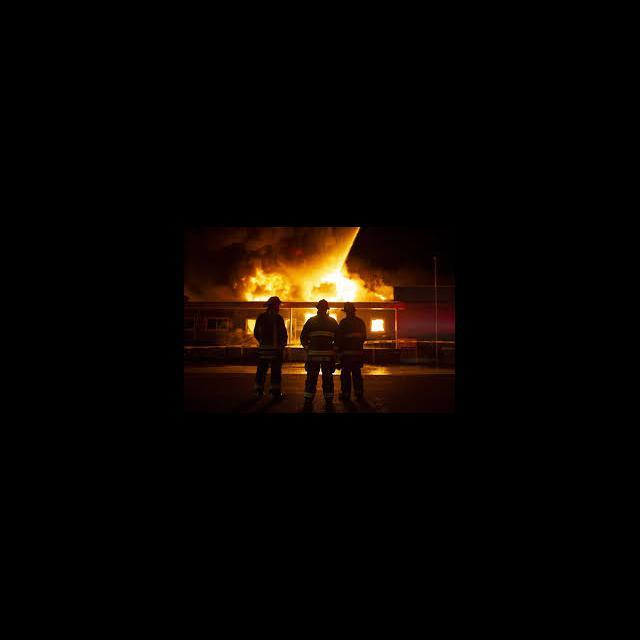Fire: (304, 258, 356, 301), (242, 262, 288, 300), (372, 320, 384, 330)
Smoke: (185, 228, 347, 255), (186, 256, 240, 300)
